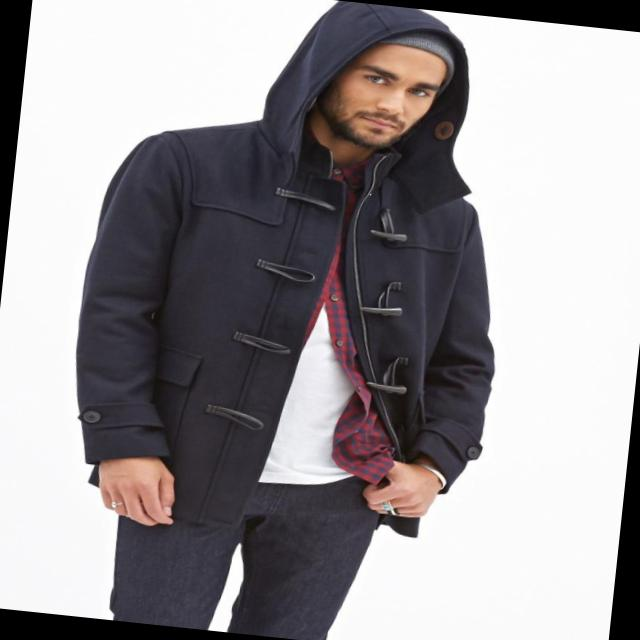Jacket: (52, 108, 524, 529)
